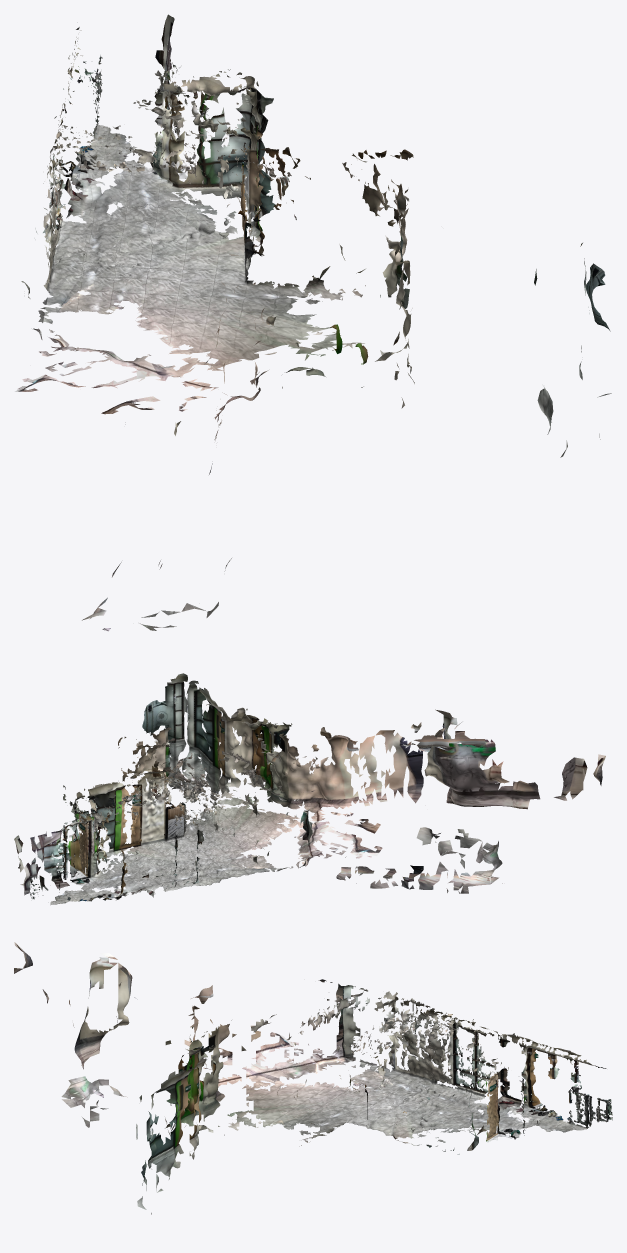
The model's file is 147300-TLT3SampingLift2-tex.glb.
3 views of the same model, one above another, from view 1: azimuth 30°, elevation 25°; view 2: azimuth 150°, elevation 25°; view 3: azimuth 270°, elevation 25° (orthographic). The views are drawn at different scales.
Parts seen in each view (by area): view 1: Node; view 2: Node; view 3: Node.
Boxes of the visible parts, box(x1,y1,x2,y2) form: Node: box(15, 14, 611, 631); Node: box(14, 673, 605, 904); Node: box(14, 942, 612, 1214).
Size of the model in its own units: 12.26 by 4.9 by 14.72.
Materials: 21 (21 with a texture image).
